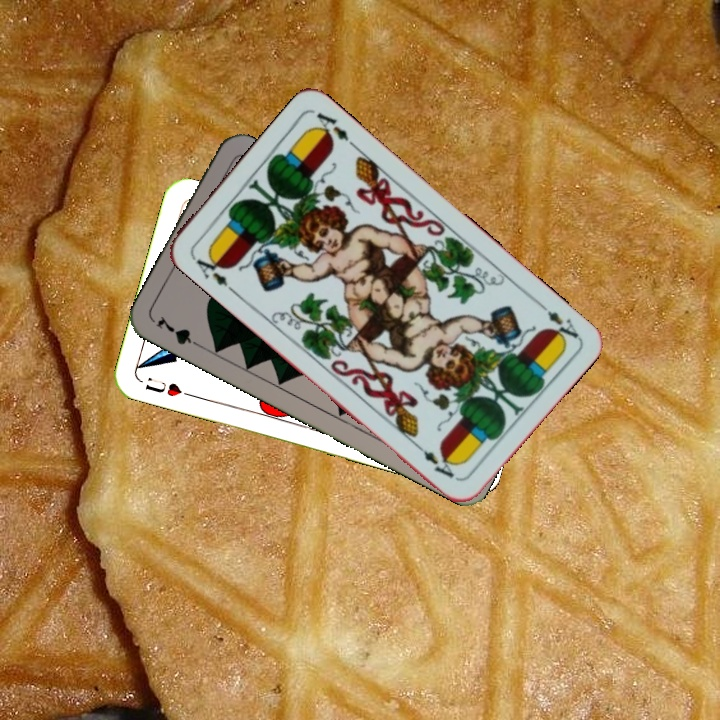EA: (188, 248, 231, 289), (543, 306, 582, 347)
G7: (152, 311, 206, 351)
HU: (141, 377, 195, 400)
